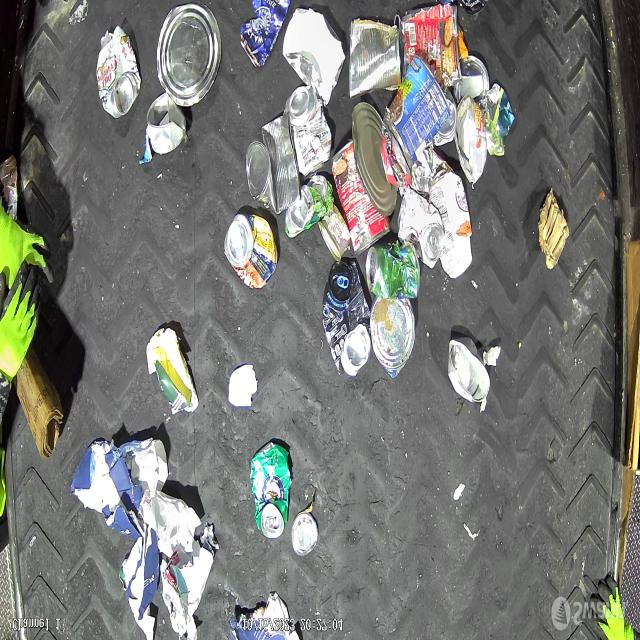can: (382, 53, 450, 168), (155, 1, 222, 108), (332, 138, 392, 254), (322, 261, 372, 377), (246, 112, 302, 215), (352, 102, 398, 215), (401, 5, 462, 86), (349, 17, 402, 100), (96, 25, 142, 119), (284, 86, 332, 176), (224, 213, 278, 289), (250, 442, 291, 540), (396, 187, 444, 269), (370, 298, 416, 378), (239, 0, 290, 70), (364, 240, 419, 300), (447, 338, 491, 408), (285, 174, 333, 238), (454, 94, 486, 185), (146, 91, 187, 152), (318, 204, 352, 261), (454, 54, 490, 104), (0, 154, 19, 247), (434, 89, 456, 147), (292, 512, 318, 556)
